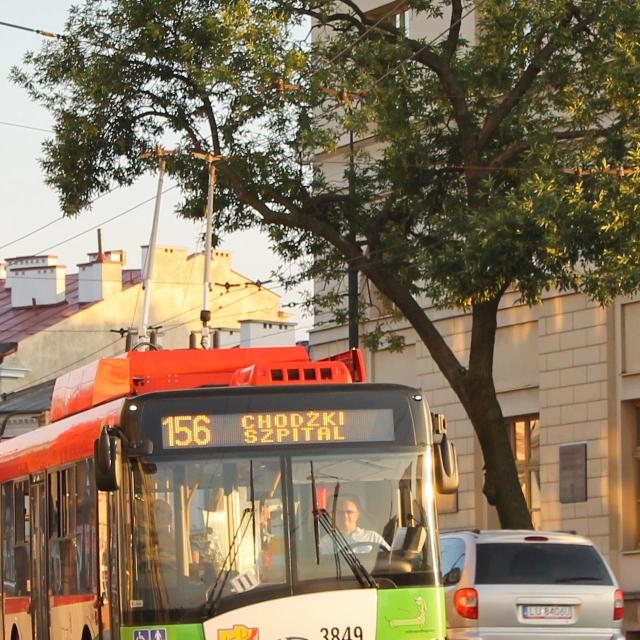Bus: (0, 348, 458, 640)
